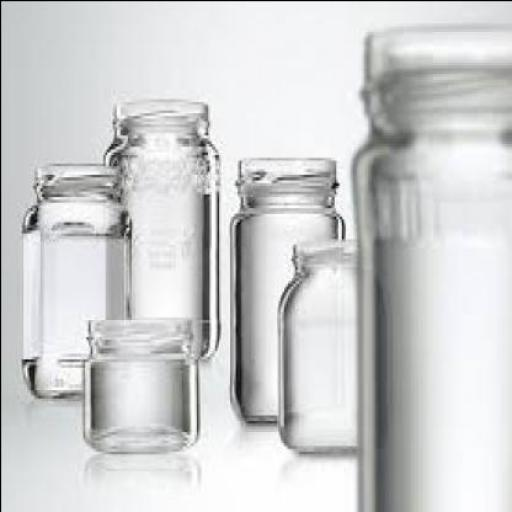glass: (350, 22, 510, 510), (227, 156, 340, 431), (100, 98, 218, 359), (20, 160, 129, 400), (276, 238, 388, 456), (80, 316, 198, 456)
